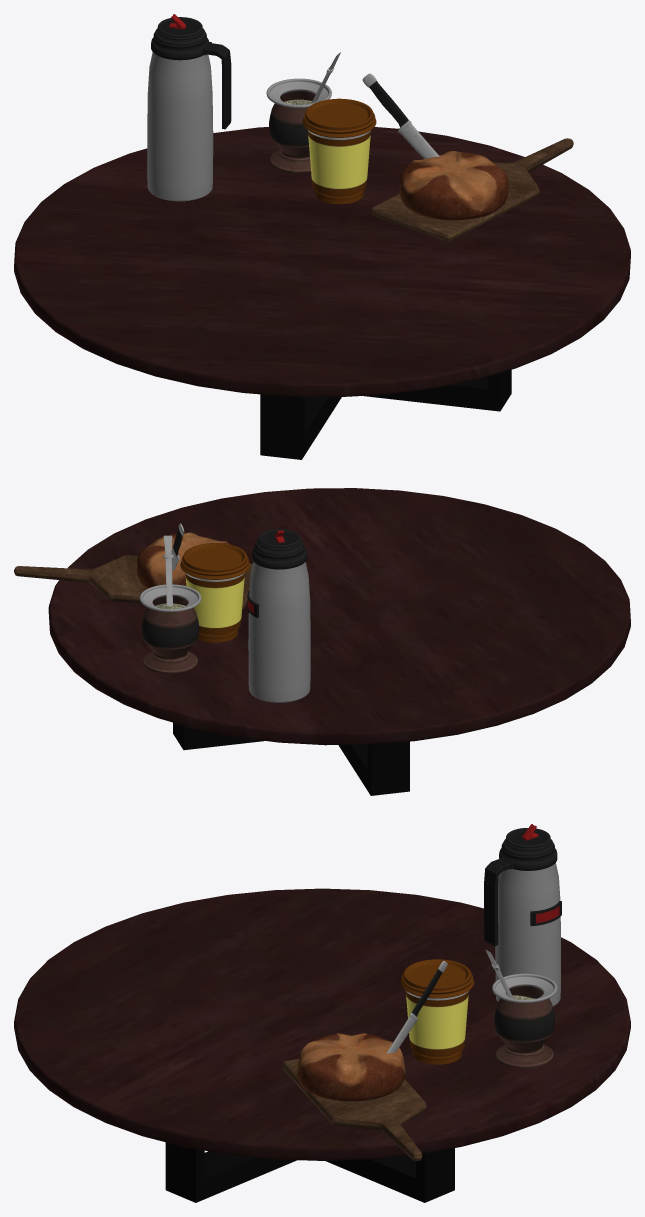
The model's file is desayuno.glb.
The picture shows the model from 3 angles, top to bottom: view 1: azimuth 30°, elevation 25°; view 2: azimuth 150°, elevation 25°; view 3: azimuth 270°, elevation 25°; orthographic projection. The views are drawn at different scales.
Parts seen in each view (by area): view 1: Mesa, Termo, Patas_mesa, Pan, Tabla, Pote, Mate, Tapa, Cuchillo, Manija; view 2: Mesa, Termo, Mate, Patas_mesa, Tabla, Pote, Tapa, Pan, Bombilla; view 3: Mesa, Termo, Patas_mesa, Pan, Mate, Tabla, Pote, Tapa, Manija, Cuchillo.
Part boxes in pixels (x1,y1,x2,y2): Mesa: (14, 127, 630, 397); Termo: (147, 17, 213, 201); Patas_mesa: (260, 369, 511, 459); Pan: (399, 151, 508, 220); Tabla: (371, 138, 573, 241); Pote: (308, 130, 370, 204); Mate: (266, 78, 331, 173); Tapa: (302, 98, 376, 137); Cuchillo: (362, 73, 439, 158); Manija: (202, 41, 231, 129); Mesa: (48, 488, 630, 745); Termo: (248, 528, 310, 702); Mate: (139, 584, 201, 673); Patas_mesa: (173, 722, 409, 795); Tabla: (14, 555, 252, 609); Pote: (185, 573, 244, 642); Tapa: (180, 543, 249, 579); Pan: (137, 532, 229, 588); Bombilla: (163, 535, 172, 606); Mesa: (14, 888, 630, 1160); Termo: (495, 828, 560, 1006); Patas_mesa: (165, 1142, 454, 1202); Pan: (296, 1033, 405, 1101); Mate: (492, 973, 557, 1068); Tabla: (282, 1059, 426, 1161); Pote: (406, 990, 469, 1064); Tapa: (400, 959, 474, 998); Manija: (484, 857, 513, 946); Cuchillo: (387, 961, 447, 1053).
Size of the model in its own units: 11.78 by 5.91 by 11.16.
7 materials, 7 textured.
